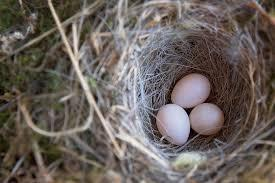egg: (172, 72, 212, 107), (158, 104, 190, 146), (190, 104, 226, 134)
